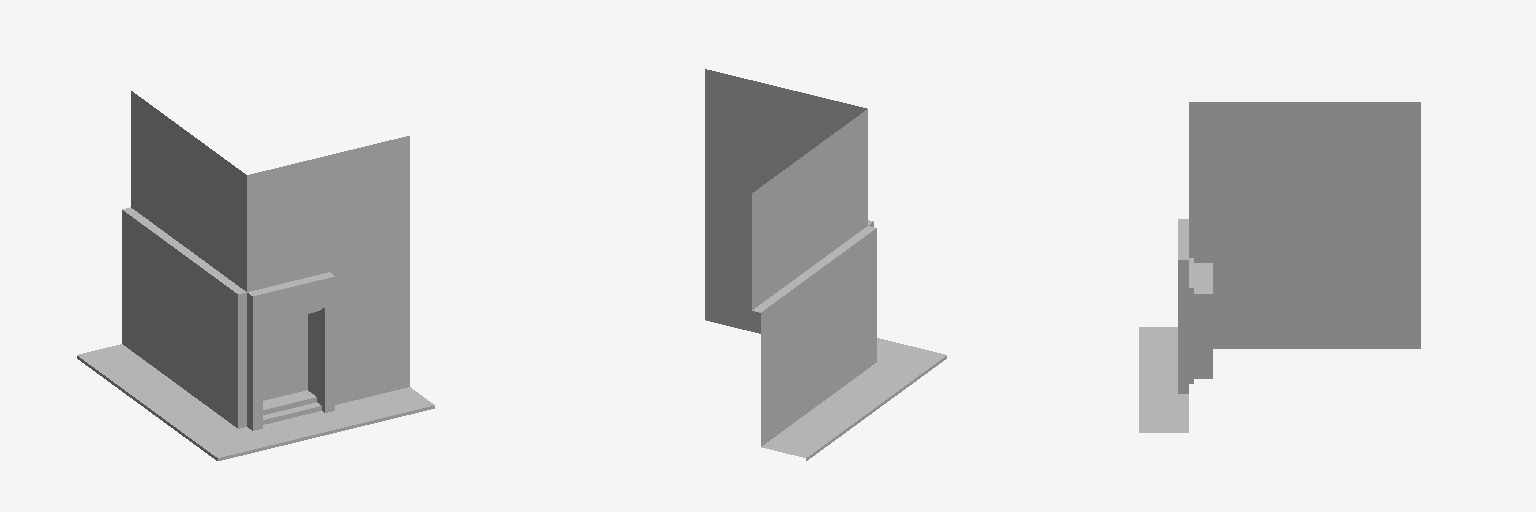
File: edificio2.obj
3 renders of one model, left to right at view 1: azimuth 30°, elevation 25°; view 2: azimuth 150°, elevation 25°; view 3: azimuth 270°, elevation 25°, orthographic.
Size of the model in its own units: 52.08 by 58.21 by 58.49.